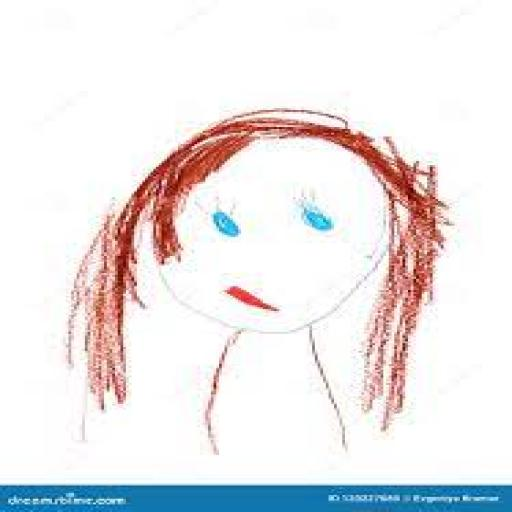person: (67, 103, 450, 458)
